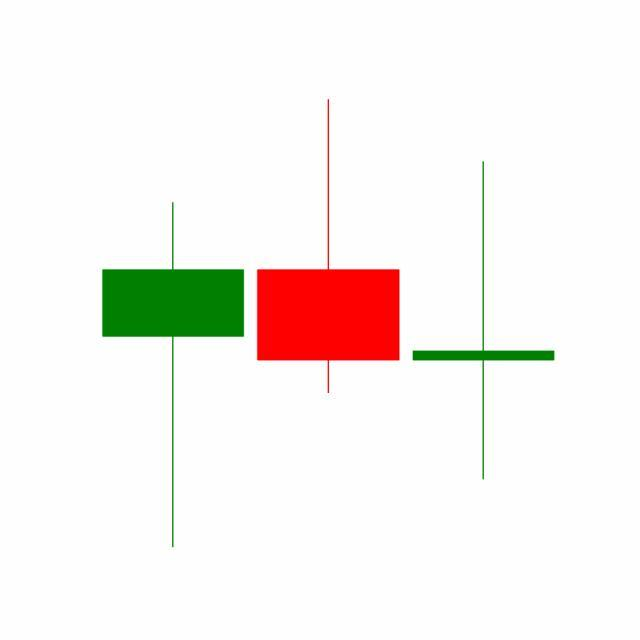Gravestone Doji: (250, 97, 407, 398)
